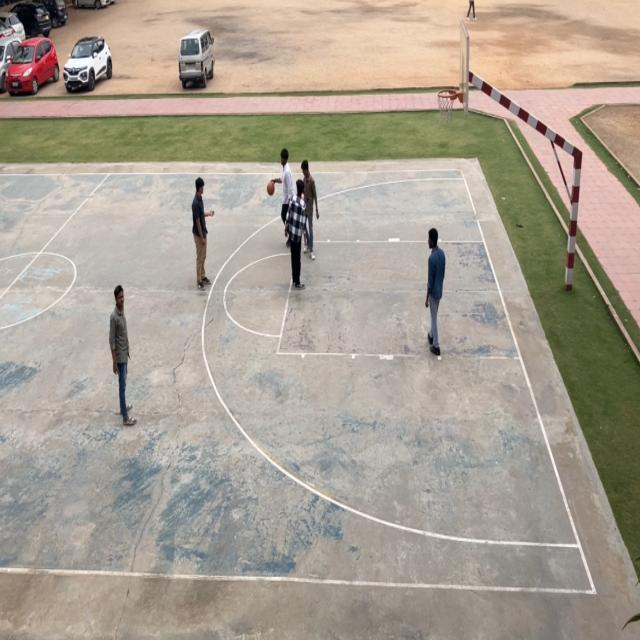basketball: (266, 181, 275, 196)
hoop: (437, 86, 457, 127)
